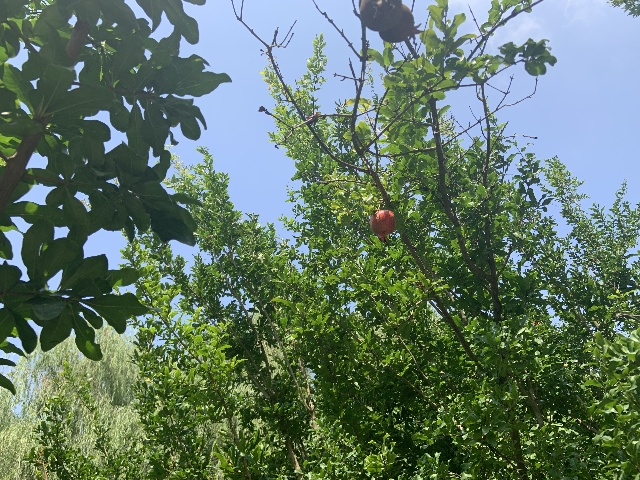ripe: (369, 209, 395, 242)
